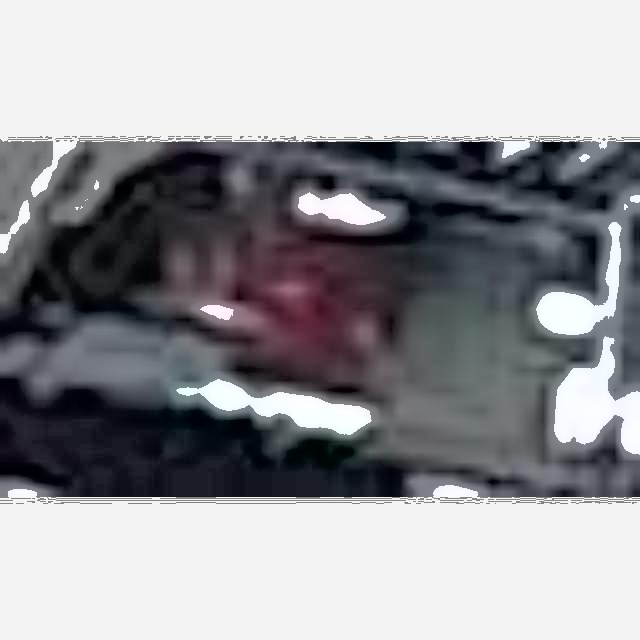tidak-pakai: (173, 203, 396, 386)
